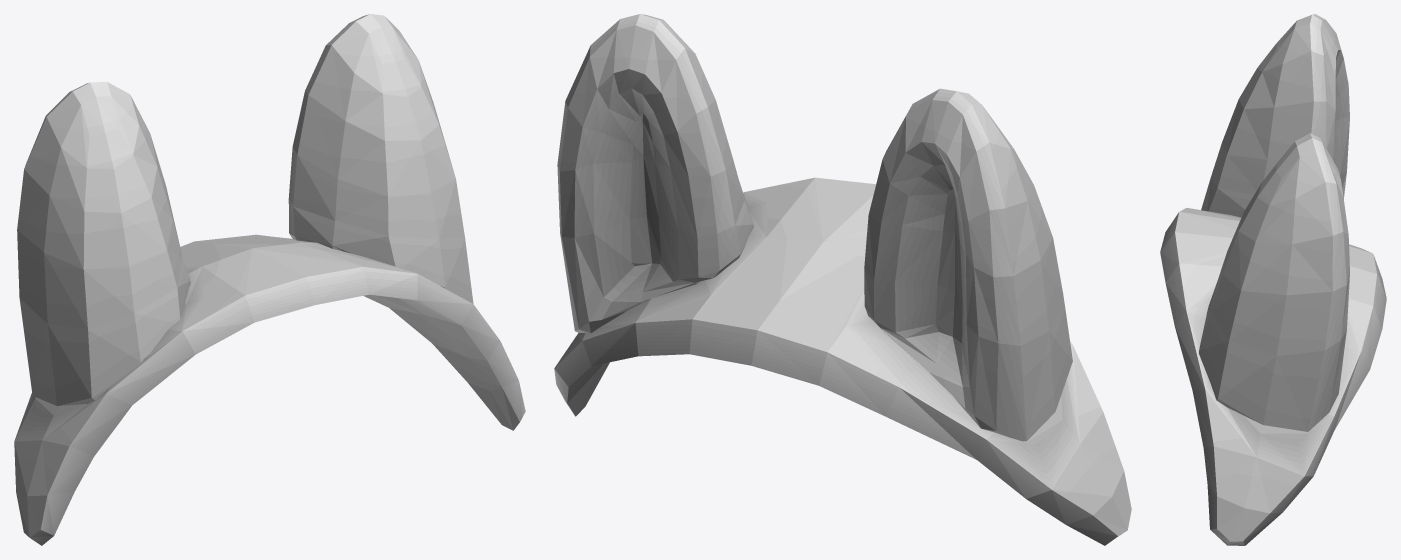
File: CharSkyKid_Hat_AP24ClassicEars.glb
3 renders of one model, left to right at view 1: azimuth 30°, elevation 25°; view 2: azimuth 150°, elevation 25°; view 3: azimuth 270°, elevation 25°, orthographic. The views are drawn at different scales.
Parts seen in each view (by area): view 1: CharSkyKid_Hat_AP24ClassicEars; view 2: CharSkyKid_Hat_AP24ClassicEars; view 3: CharSkyKid_Hat_AP24ClassicEars.
Part boxes in pixels (x1=…): CharSkyKid_Hat_AP24ClassicEars: x1=14, y1=14, x2=525, y2=545; CharSkyKid_Hat_AP24ClassicEars: x1=554, y1=14, x2=1131, y2=545; CharSkyKid_Hat_AP24ClassicEars: x1=1160, y1=14, x2=1386, y2=545.
Size of the model in its own units: 2.62 by 2.06 by 1.16.
Materials: 1 (1 with a texture image).
